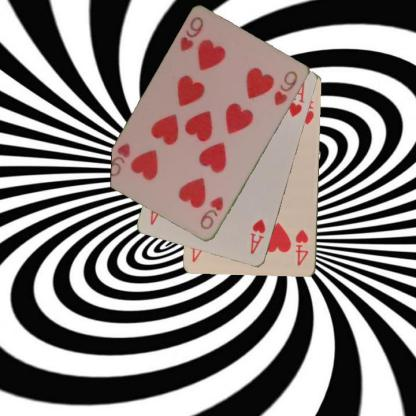4h: (292, 227, 310, 268)
9h: (177, 15, 205, 53), (198, 194, 224, 231)
Ah: (247, 217, 267, 256)
